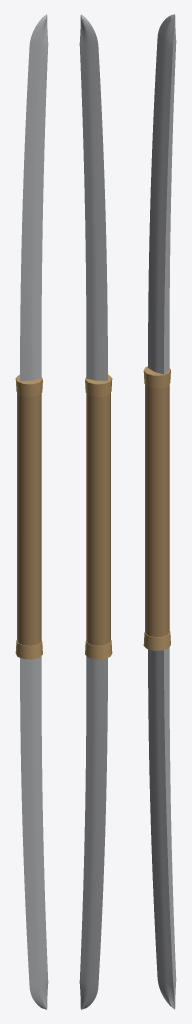
Rendered from double-walking-stick-katana.glb.
3 views of the same model, side by side, from view 1: azimuth 30°, elevation 25°; view 2: azimuth 150°, elevation 25°; view 3: azimuth 330°, elevation 25° (orthographic).
Visible parts, largest first — view 1: double-walking-stick-katana; view 2: double-walking-stick-katana; view 3: double-walking-stick-katana.
Boxes of the visible parts, box(x1,y1,x2,y2) form: double-walking-stick-katana: box(15, 14, 48, 1009); double-walking-stick-katana: box(79, 14, 112, 1009); double-walking-stick-katana: box(143, 14, 176, 1009).
Bounding box in the file's own units: 0.0947 × 3.04 × 0.0723.
